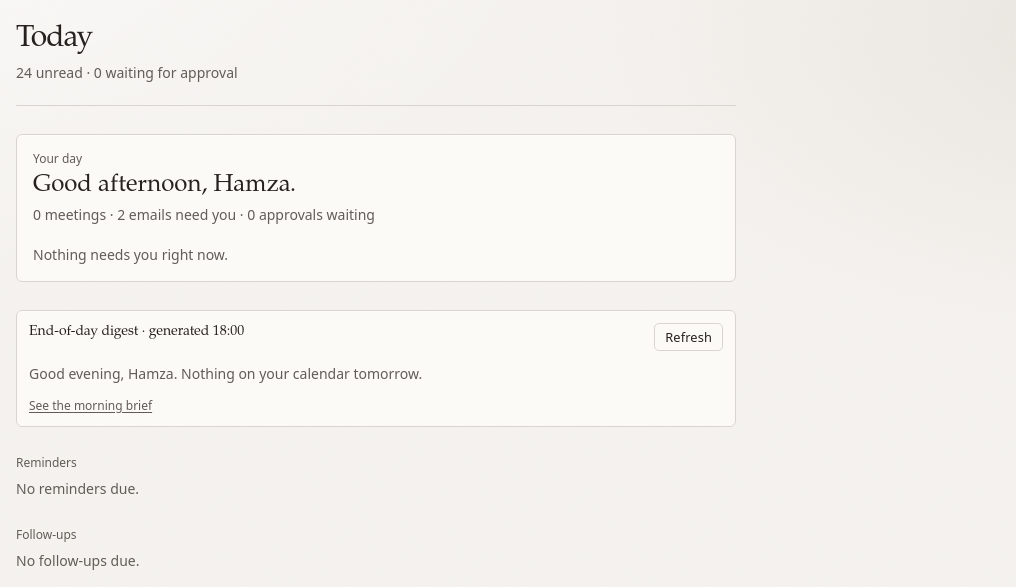
Test: TodayPage › shows only the brief for this time of day, with the other a click away
Check: the text "End-of-day digest · generated 18:00" is shown, box [29,325,244,339]
Check: the text "Good evening, Hamza. Nothing on your calendar tomorrow." is shown, box [29,364,422,383]
Click the button "See the morning brief" at (91, 406), box [29,398,152,414]
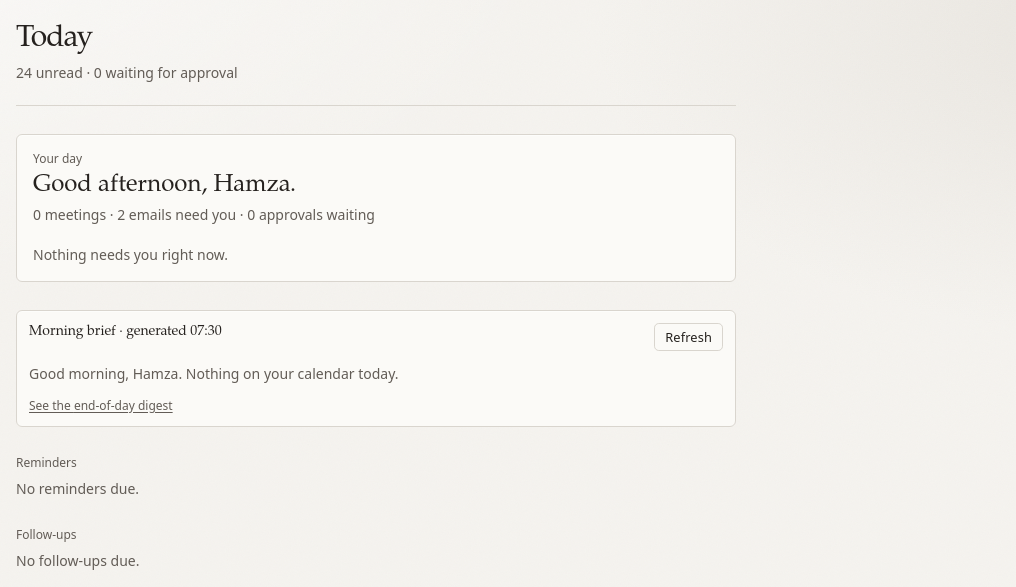
Check: the text "Morning brief · generated 07:30" is shown, box [29,325,222,339]
Check: the text "Good morning, Hamza. Nothing on your calendar today." is shown, box [29,364,398,383]
